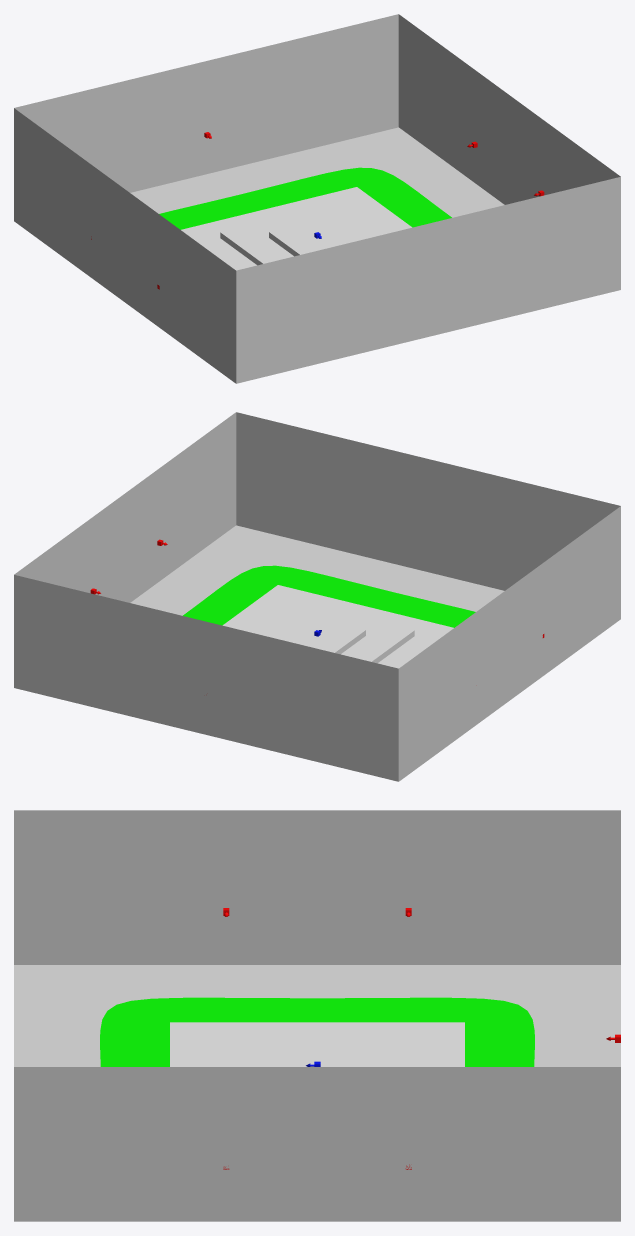
File: DemoMuseum02.glb
The picture shows the model from 3 angles, top to bottom: view 1: azimuth 30°, elevation 25°; view 2: azimuth 150°, elevation 25°; view 3: azimuth 270°, elevation 25°; orthographic projection. The views are drawn at different scales.
Visible parts, largest first — view 1: Walls, Floor, Cube, Path; view 2: Walls, Floor, Cube, Path; view 3: Walls, Floor, Path, Cube.
Part boxes in pixels (bbox=[...]): Walls: bbox=[14, 14, 620, 383]; Floor: bbox=[130, 127, 504, 217]; Cube: bbox=[181, 187, 412, 270]; Path: bbox=[159, 167, 451, 229]; Walls: bbox=[14, 412, 620, 781]; Floor: bbox=[130, 525, 504, 615]; Cube: bbox=[222, 585, 453, 668]; Path: bbox=[183, 565, 475, 627]; Walls: bbox=[14, 810, 620, 1221]; Floor: bbox=[14, 965, 620, 1066]; Path: bbox=[100, 997, 534, 1066]; Cube: bbox=[170, 1022, 464, 1066].
Bounding box in the file's own units: 20 × 5.63 × 20.
